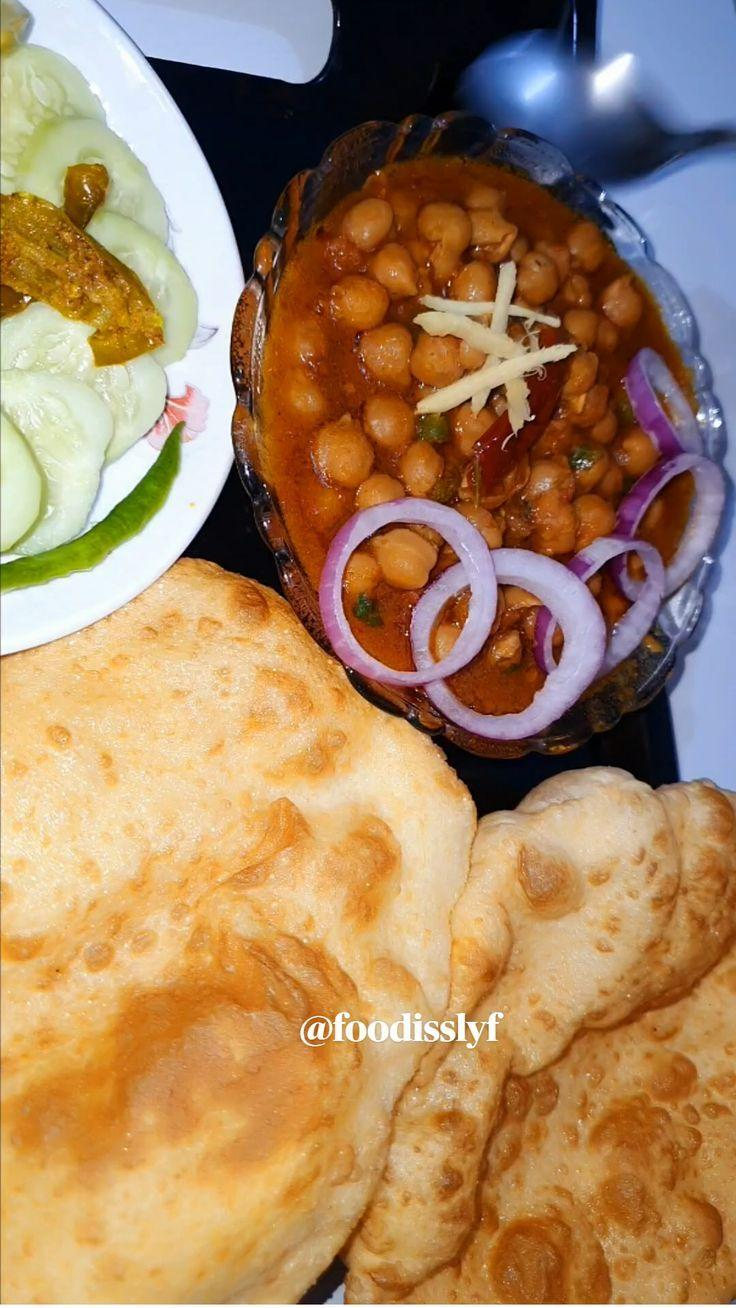chole: (277, 188, 697, 727)
puri: (20, 644, 461, 1302), (510, 801, 736, 1308)
salad: (0, 34, 172, 550)
